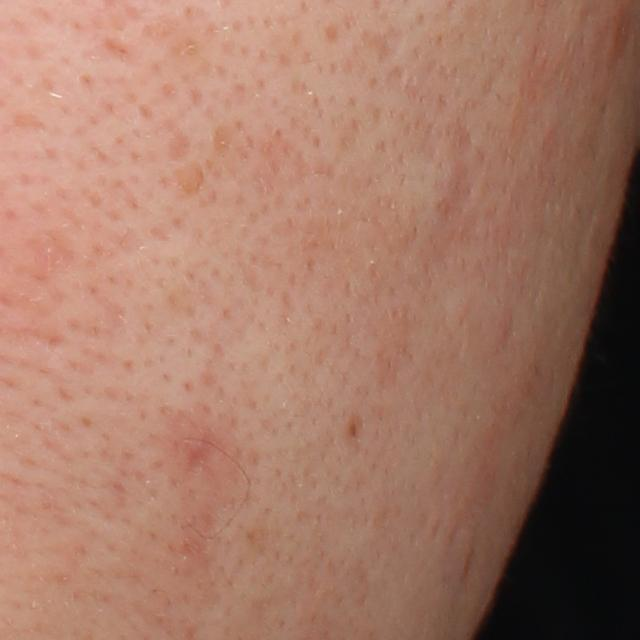atrophic_scar: (434, 116, 479, 241), (182, 433, 224, 483), (358, 24, 404, 65), (165, 126, 196, 164), (177, 161, 207, 196)
